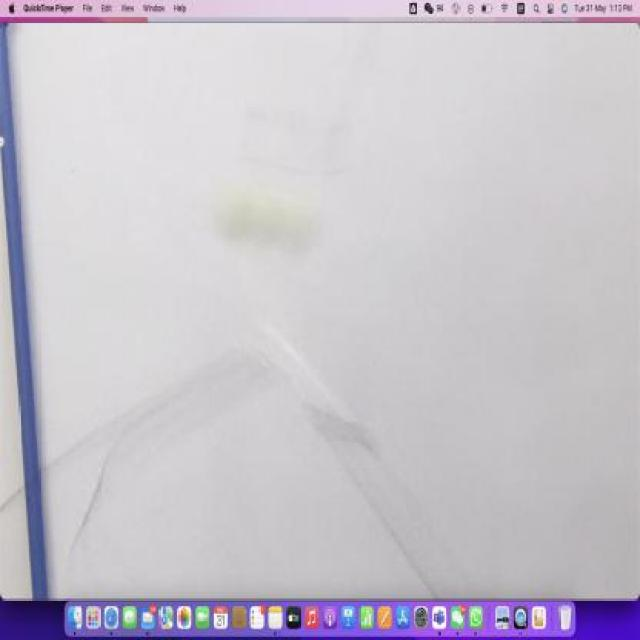baseball: (214, 183, 320, 255)
